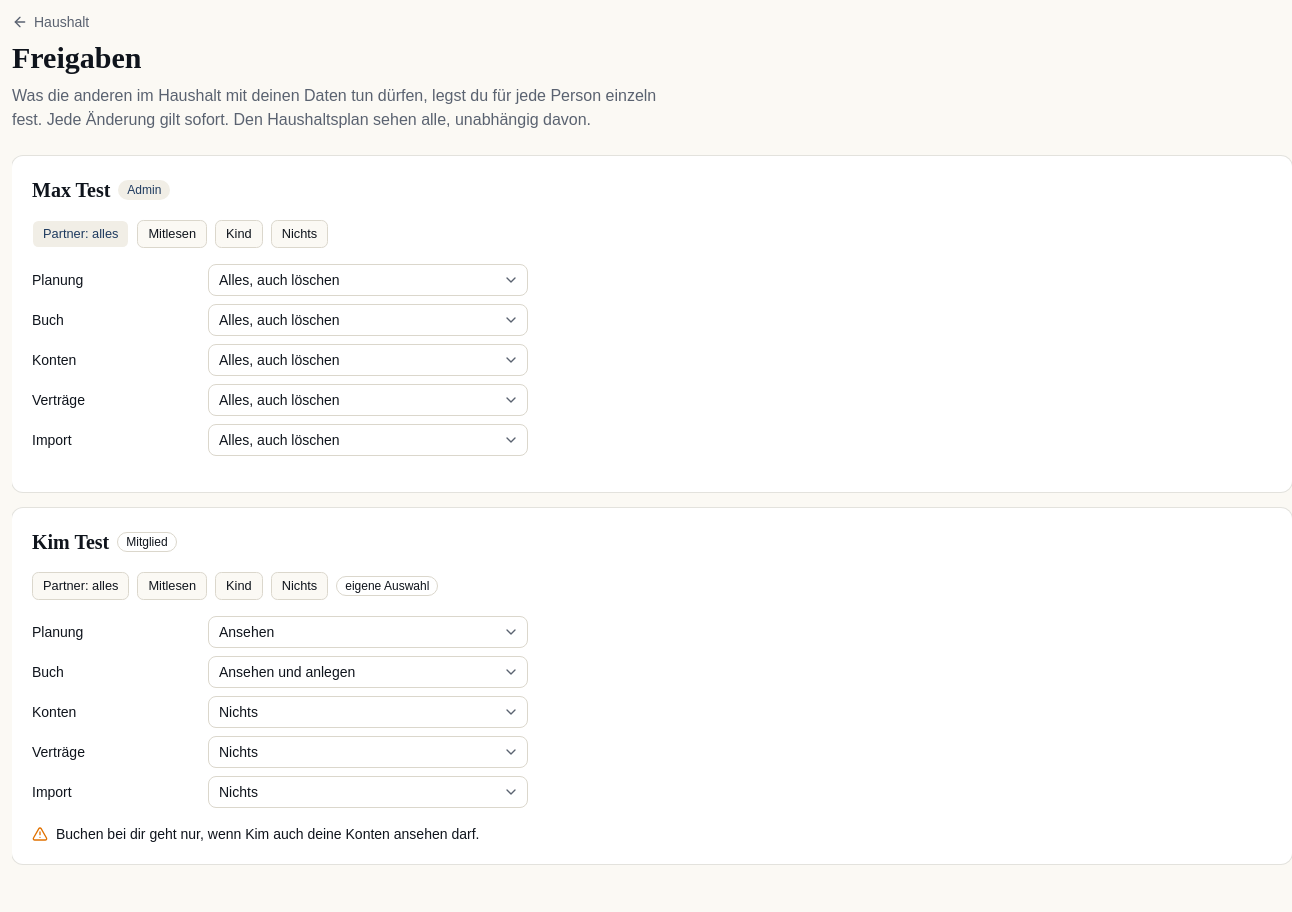
Test: grants page › one select sends only its area, and focus stays on it
Click the dropdown named "Konten". click: (279,360)
box: [208,344,528,376]
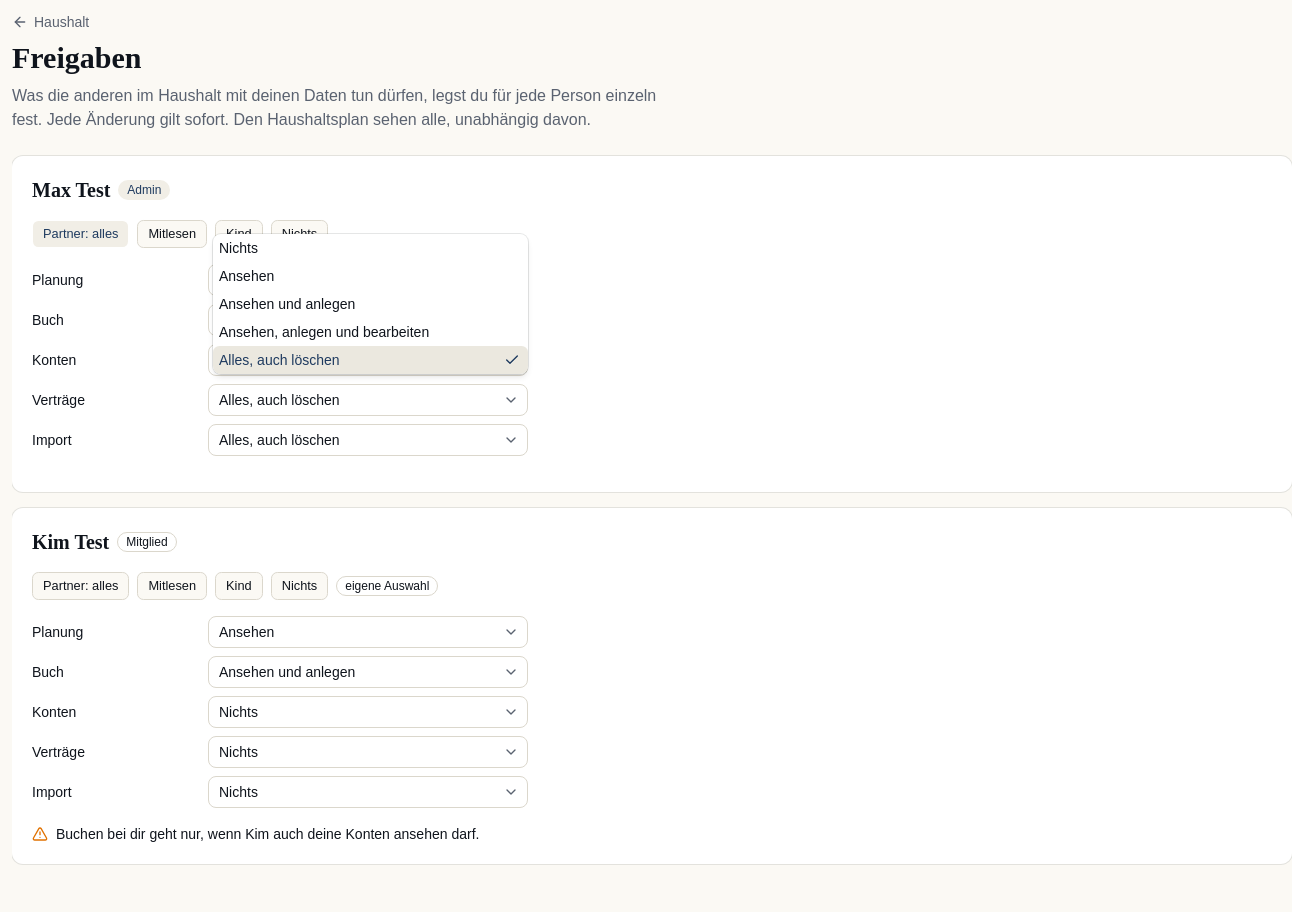
Click the option "Ansehen". click: (247,276)
box: [219,268,274,284]
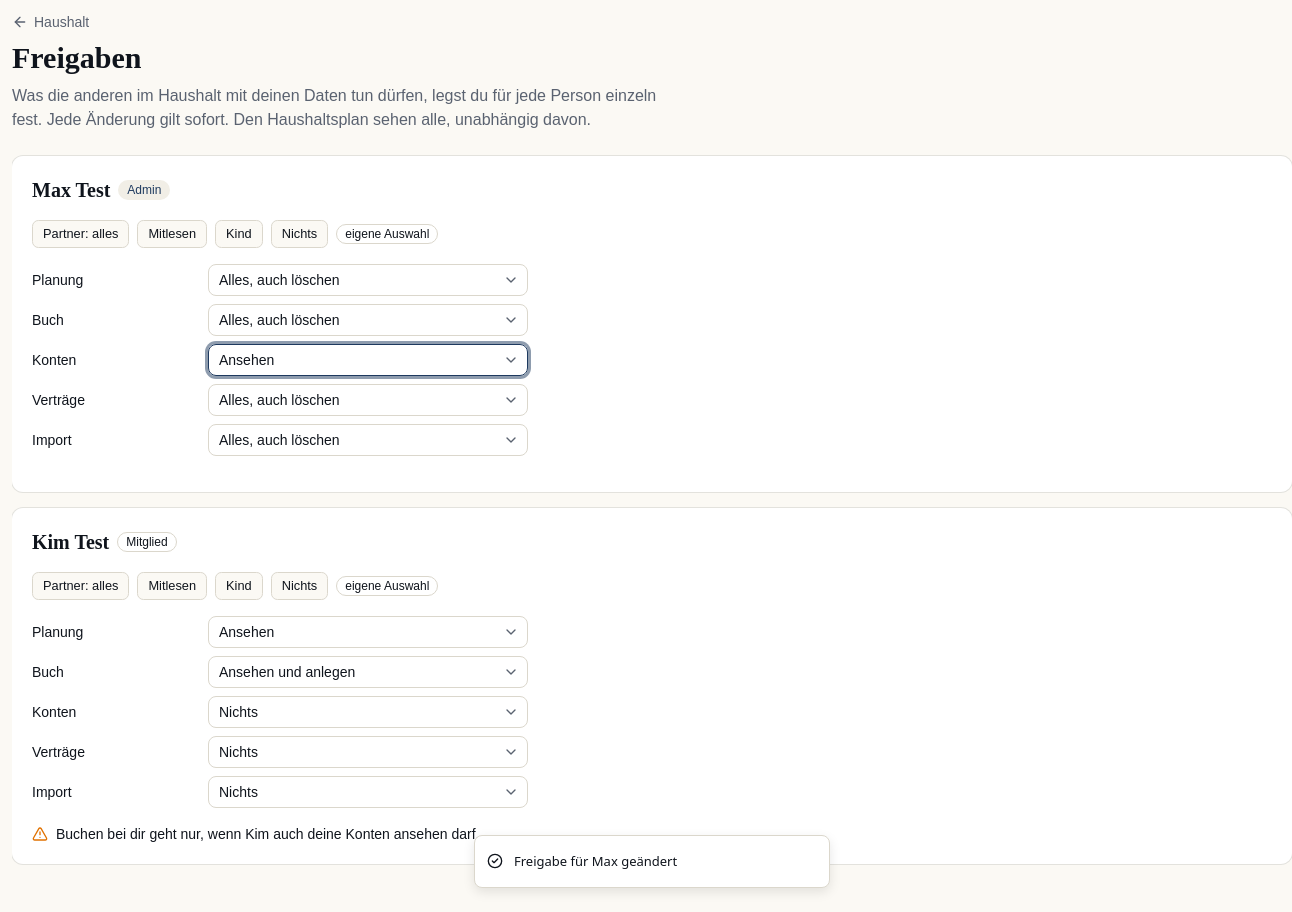
Expected: the dropdown named "Konten" reads "Ansehen", [208,344,528,376]
Expected: the text "eigene Auswahl" below "Max Test" is shown, [345,227,429,241]
